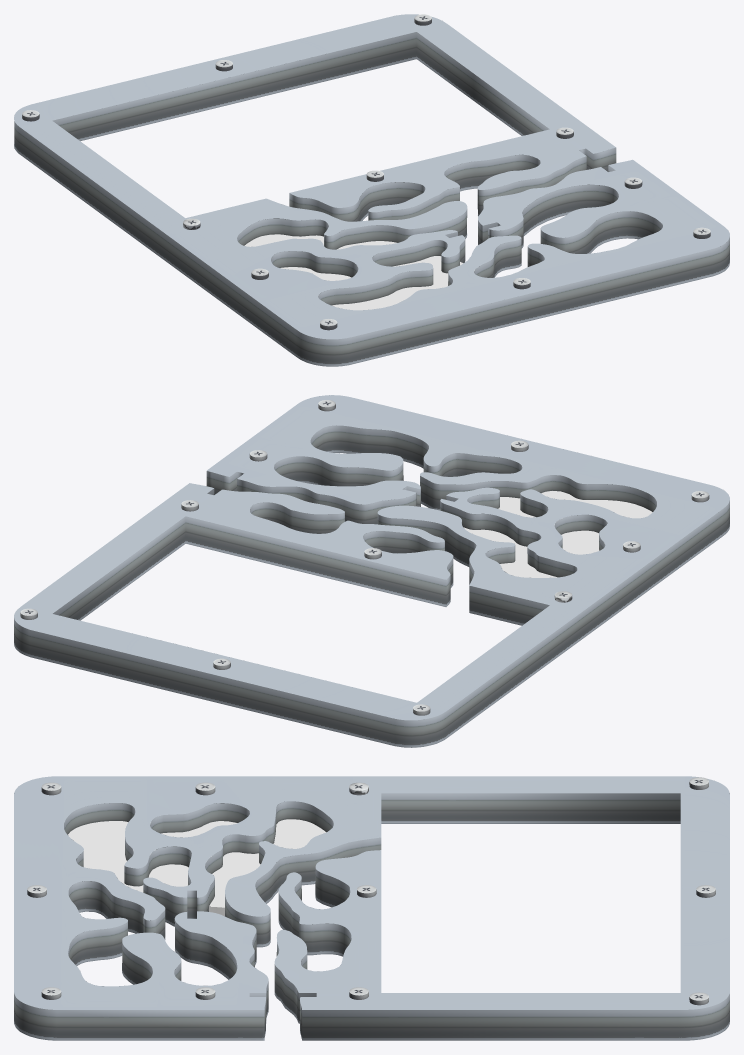
File: formicary.fbx
3 renders of one model, top to bottom at view 1: azimuth 30°, elevation 25°; view 2: azimuth 150°, elevation 25°; view 3: azimuth 270°, elevation 25°, orthographic. The views are drawn at different scales.
Parts seen in each view (by area): view 1: layer 3, layer 2; view 2: layer 3, layer 2; view 3: layer 3, layer 2.
Boxes of the visible parts, x1,y1,x2,y2 form: layer 3: (14,14,729,366); layer 2: (244,234,474,310); layer 3: (14,395,729,747); layer 2: (464,491,652,577); layer 3: (14,776,729,1040); layer 2: (68,819,326,916).
Size of the model in its own units: 6529 by 459 by 8447.
